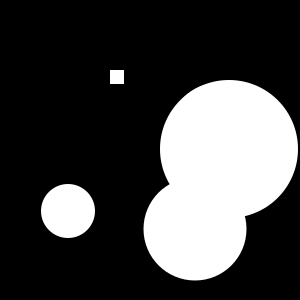circle: (110, 70, 124, 84)
rectangle: (160, 80, 298, 218), (144, 178, 246, 280), (170, 83, 266, 179), (41, 184, 95, 238)
